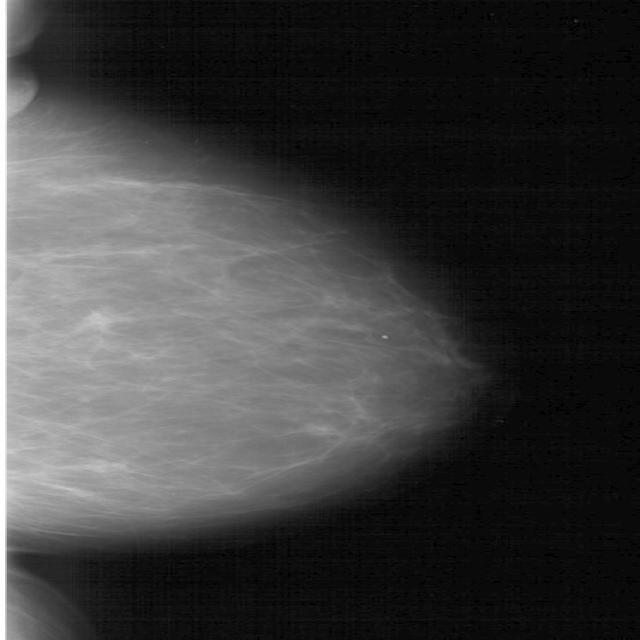tumour: (77, 309, 120, 334)
